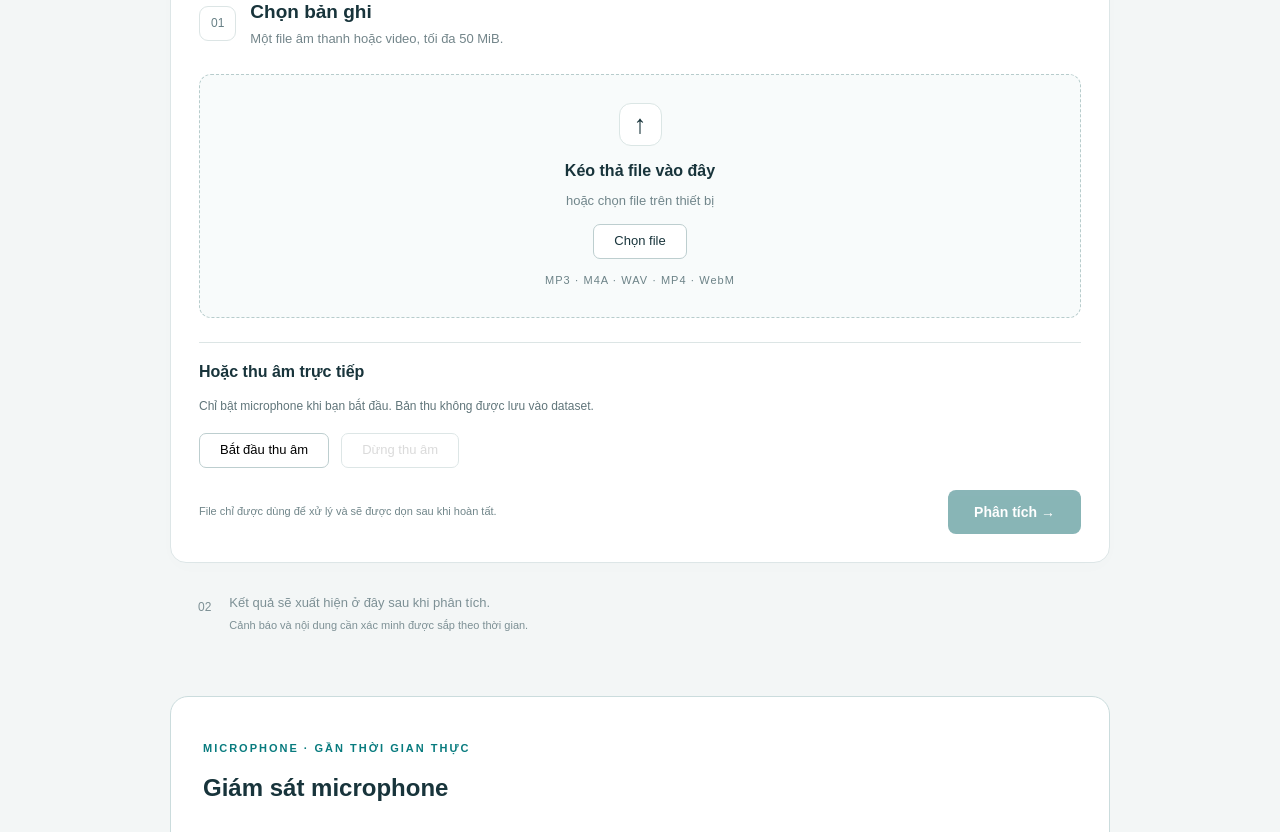
Test case: reports NotReadableError
(page scrolled)
What coordinates should you click on to do the following:
click the button "Bắt đầu thu âm"
I would click on:
 (264, 450)
Its box is [199,433,329,468].
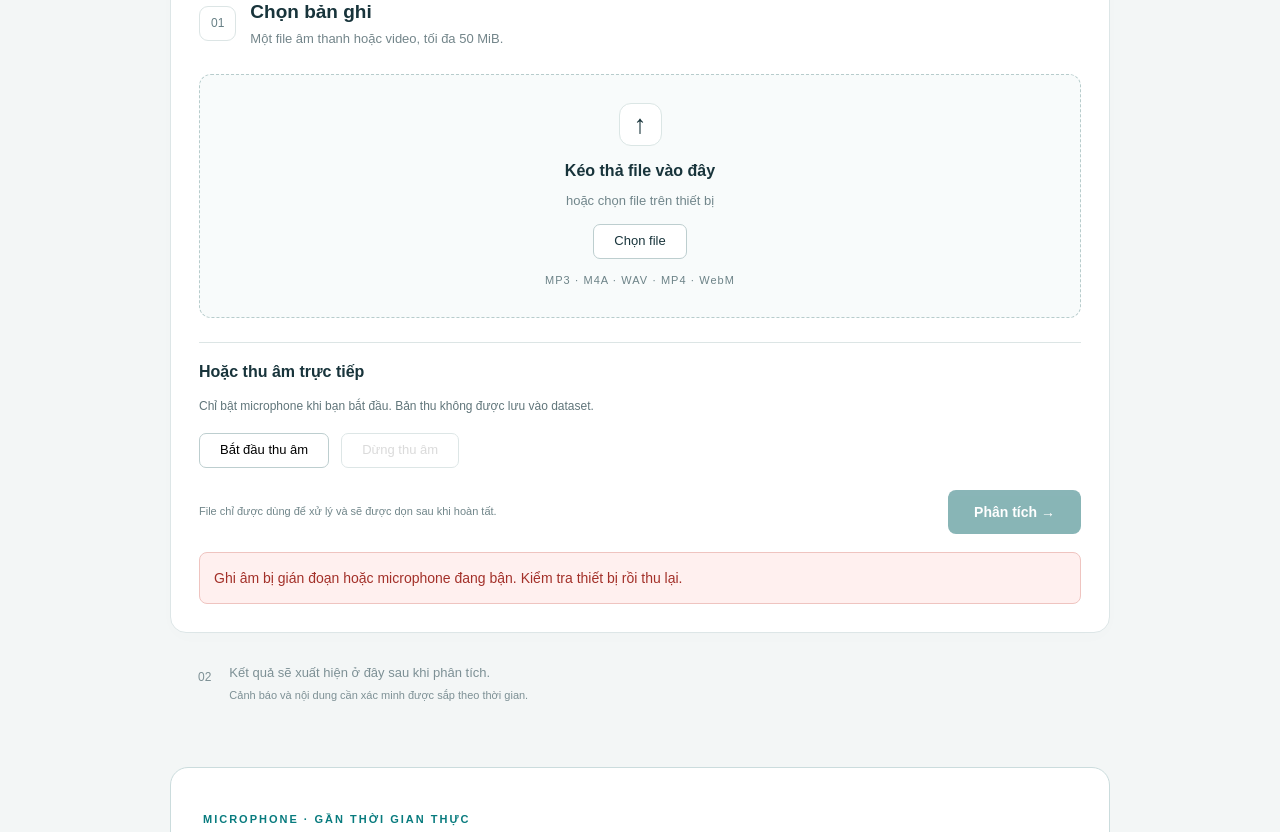
Now the text "bị gián đoạn" is shown, box [214,570,682,586]
